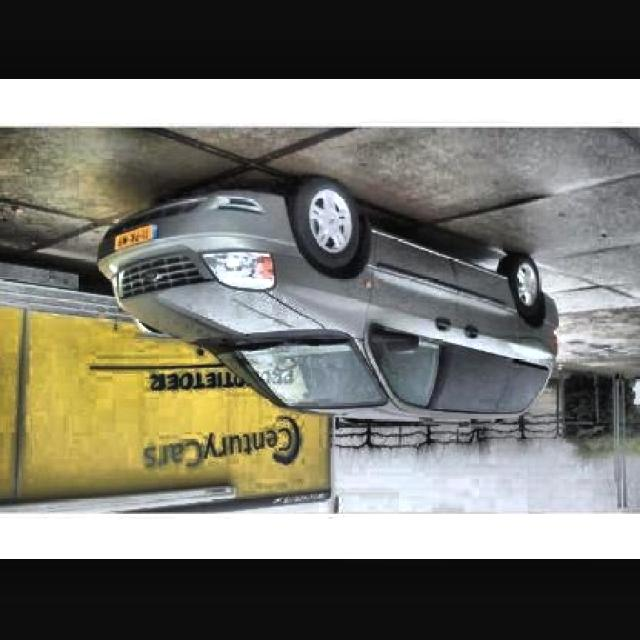black: (39, 184, 562, 451)
